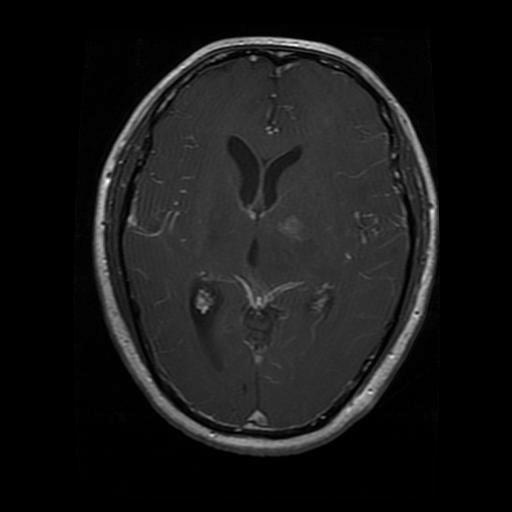Tumour-Glioma: (268, 209, 330, 253)
